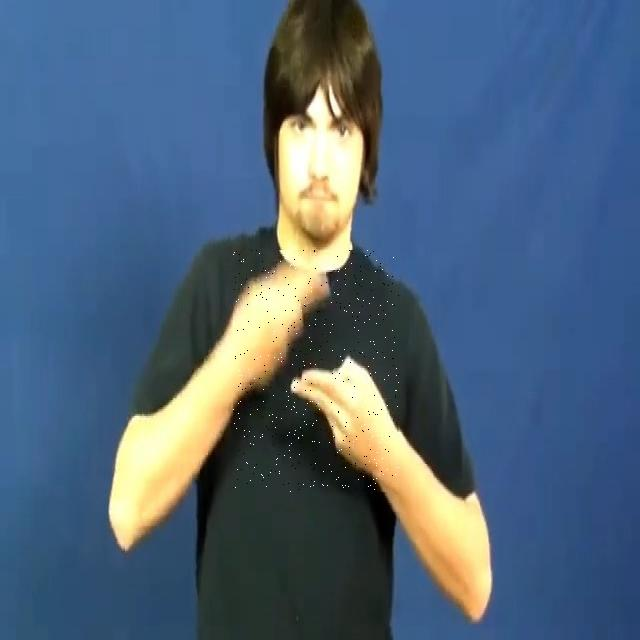spoon: (233, 250, 400, 492)
